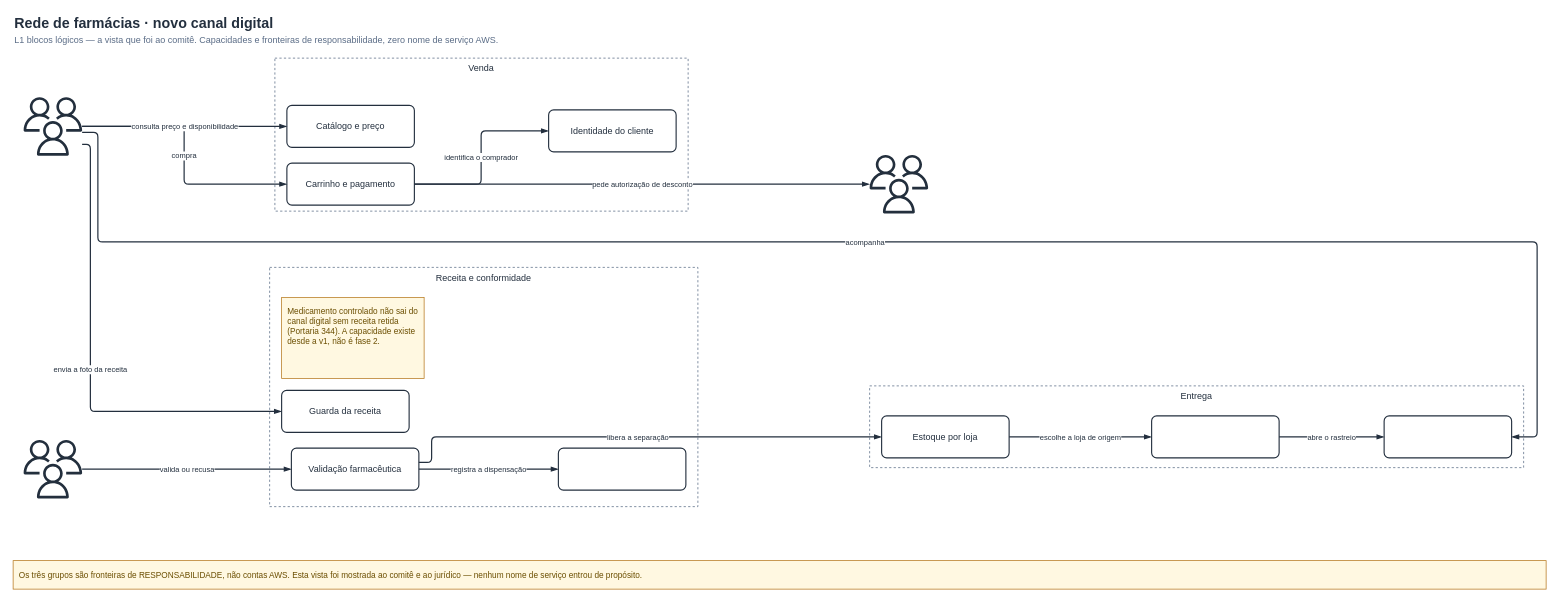
The diagram is 1559 pixels wide and 602 high, and some of its shapes have lost their labels. The centre of each missing label's shape, as x and y in pixels:
"Cliente" belongs at (52,126).
"Convênio e PBM" belongs at (898,183).
"Farmacêutico" belongs at (52,469).
"Rastreio da entrega" belongs at (1447,436).
"Roteirização" belongs at (1215,436).
"Trilha regulatória" belongs at (621,468).
